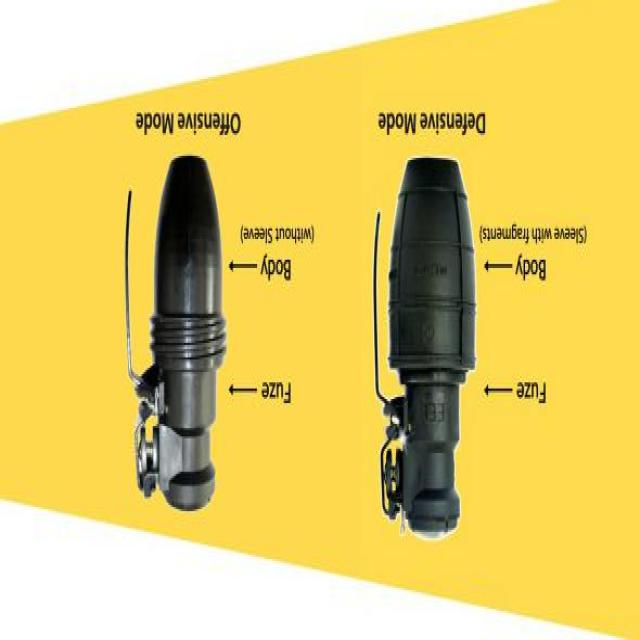grenade: (374, 157, 477, 539), (126, 157, 229, 512)
